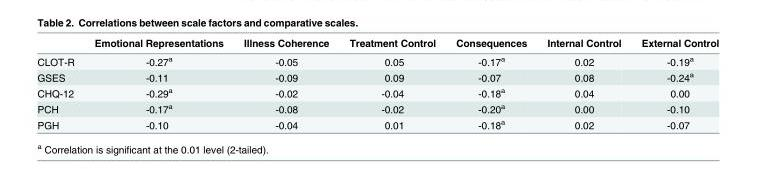table: (36, 36, 718, 130)
table column: (83, 36, 232, 130), (338, 36, 445, 130), (232, 36, 338, 130), (536, 36, 630, 130), (445, 36, 536, 130), (630, 36, 718, 130), (36, 36, 83, 130)
table column header: (36, 36, 718, 51)
table row: (36, 51, 718, 68), (36, 68, 718, 84), (36, 84, 718, 100), (36, 36, 718, 51), (36, 100, 718, 115), (36, 115, 718, 130)
